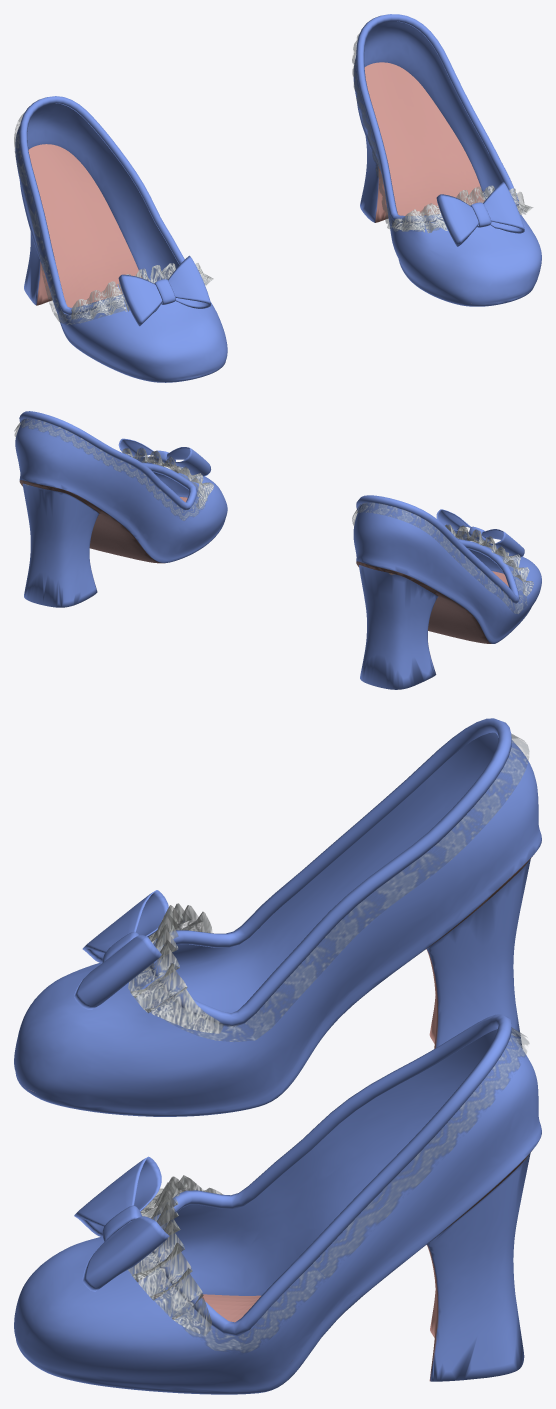
Rendered from georgian_shoes-optimo.glb.
3 views of the same model, one above another, from view 1: azimuth 30°, elevation 25°; view 2: azimuth 150°, elevation 25°; view 3: azimuth 270°, elevation 25° (orthographic). The views are drawn at different scales.
Parts seen in each view (by area): view 1: Object_4, Object_14, Object_6; view 2: Object_4, Object_6; view 3: Object_4, Object_6, Object_14.
Boxes of the visible parts, x1,y1,x2,y2 form: Object_4: (14, 14, 541, 382); Object_14: (28, 62, 484, 307); Object_6: (118, 182, 524, 326); Object_4: (14, 411, 541, 689); Object_6: (118, 438, 524, 557); Object_4: (14, 718, 541, 1394); Object_6: (74, 890, 169, 1291); Object_14: (31, 1090, 260, 1322).
Bounding box in the file's own units: 0.3261 × 0.1278 × 0.1812.
3 materials, 3 textured.
